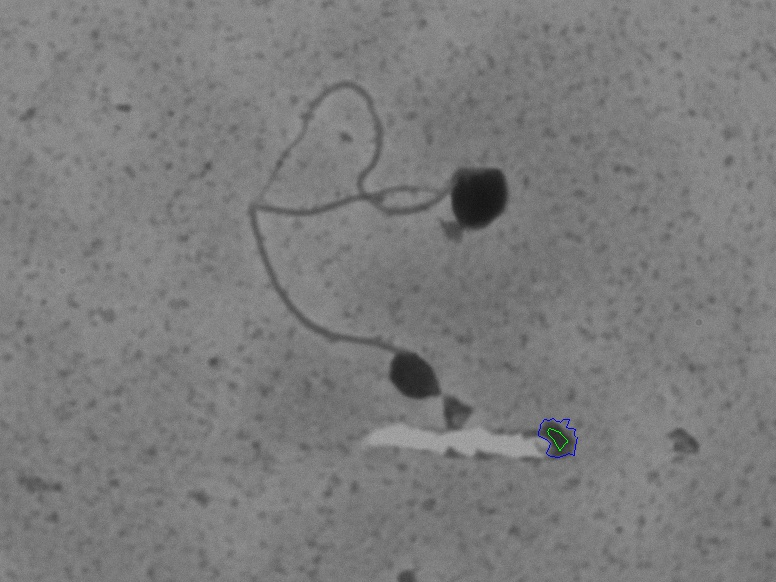Abnormal: (223, 192, 449, 415)
